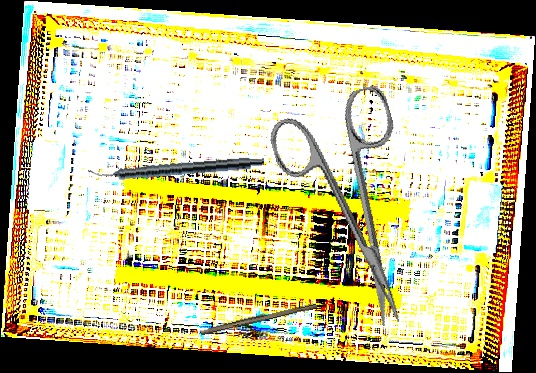Handpiece: (87, 152, 265, 184)
Iris Scissors: (263, 83, 447, 342)
Scalpel Handle: (199, 299, 318, 338)
